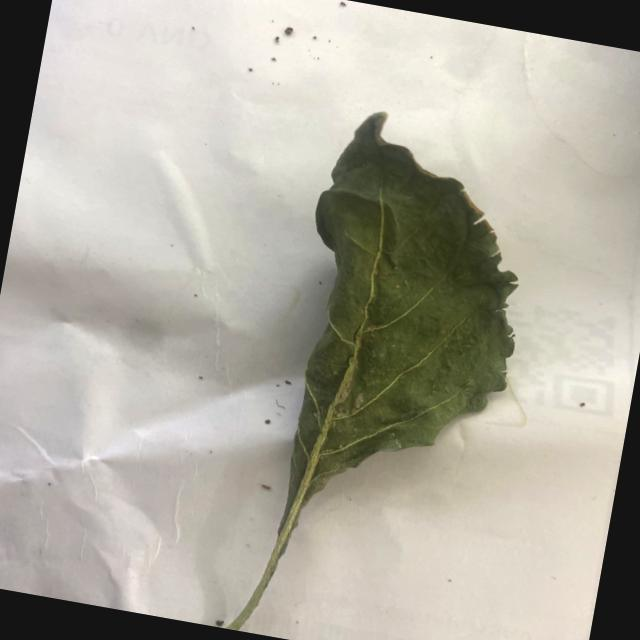Leaf: (264, 101, 550, 536)
